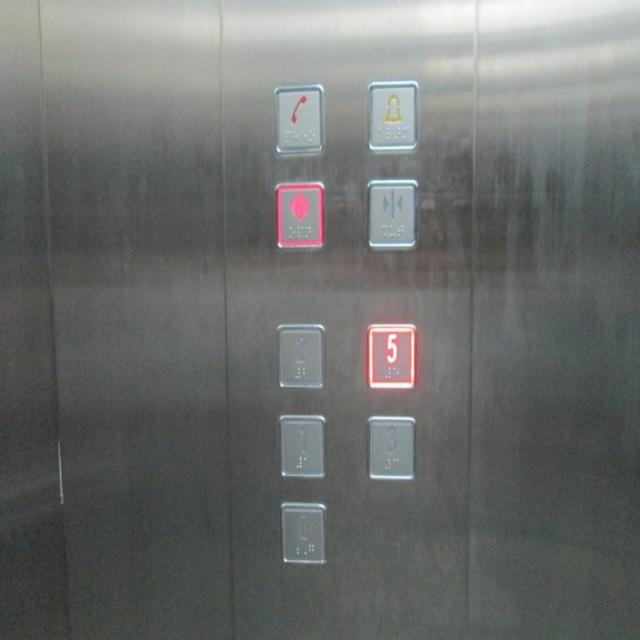1: (277, 410, 326, 481)
2: (274, 322, 325, 391)
3: (365, 411, 416, 481)
5: (365, 320, 417, 393)
G: (278, 496, 330, 566)
alarm: (365, 76, 419, 153)
call: (270, 82, 326, 156)
close: (364, 176, 421, 251)
open: (272, 179, 326, 250)
